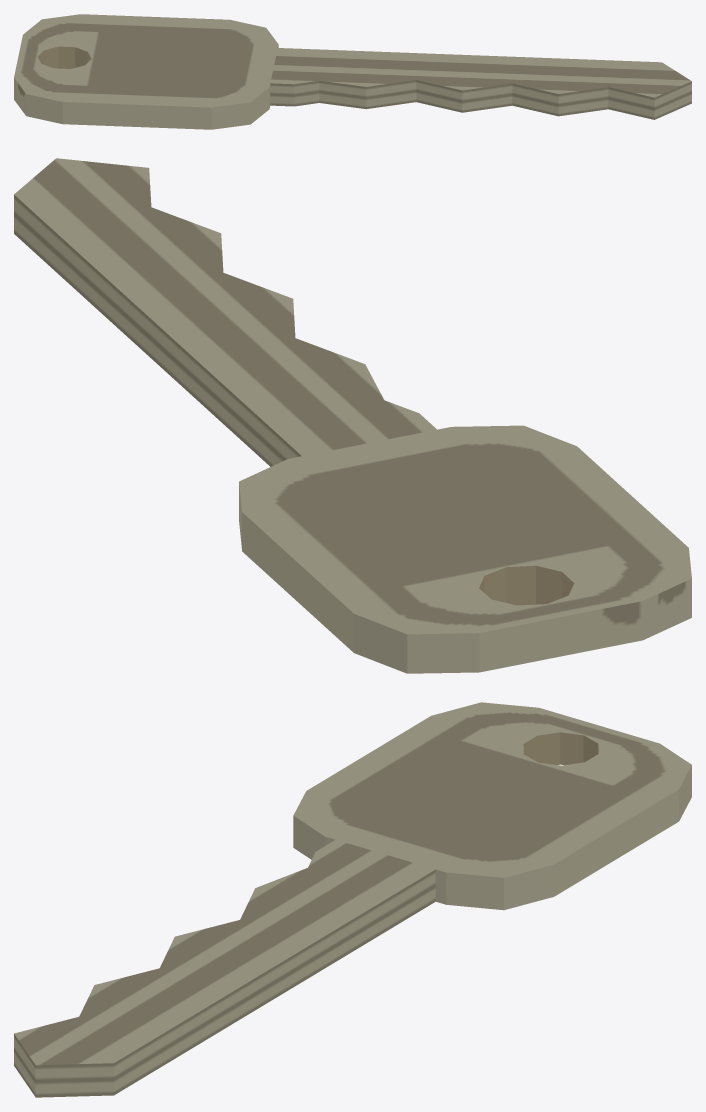
Rendered from key.glb.
3 views of the same model, one above another, from view 1: azimuth 30°, elevation 25°; view 2: azimuth 150°, elevation 25°; view 3: azimuth 270°, elevation 25° (orthographic). The views are drawn at different scales.
Visible parts, largest first — view 1: key; view 2: key; view 3: key.
Part boxes in pixels (x1,y1,x2,y2): key: [14, 14, 691, 129]; key: [14, 158, 691, 673]; key: [14, 702, 691, 1097].
Size of the model in its own units: 0.0615 by 0.00255 by 0.0486.
Materials: 1 (1 with a texture image).
